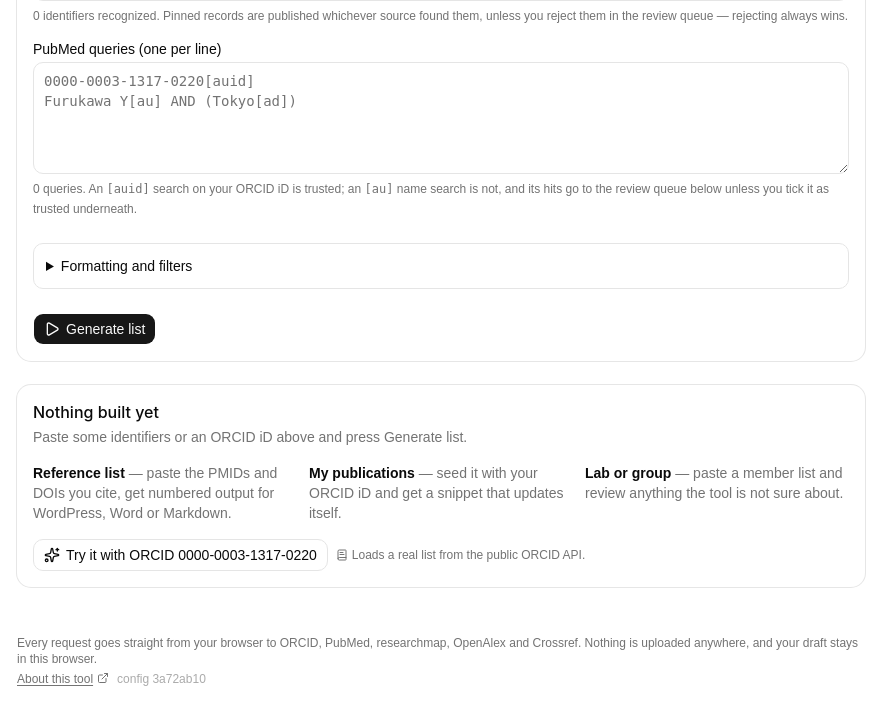
Test case: removing a publication from the built list › rebuilds, so the record leaves the list on the spot
(page scrolled)
Step 1. Click the button "Generate list" → (95, 329), box [33,313,156,345]
(page scrolled)
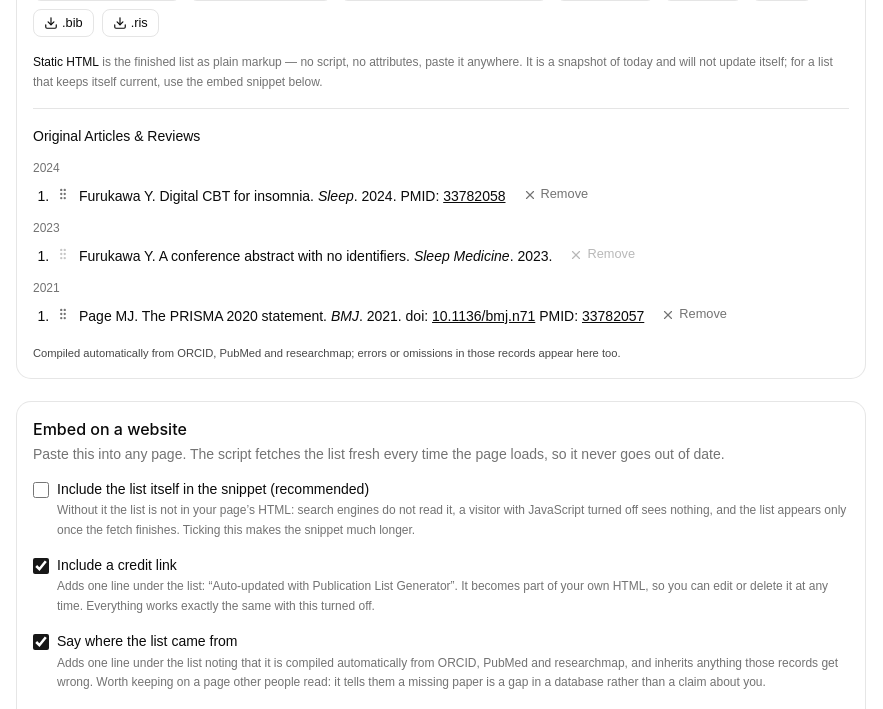
Expected: the element that starts with "Original Articles & Reviews" shows "The PRISMA 2020 statement", [79,308,331,324]
Step 2. Click the button "Remove" in the row of "Page MJ. The PRISMA 2020 statement." → (694, 315), box [650,301,738,329]
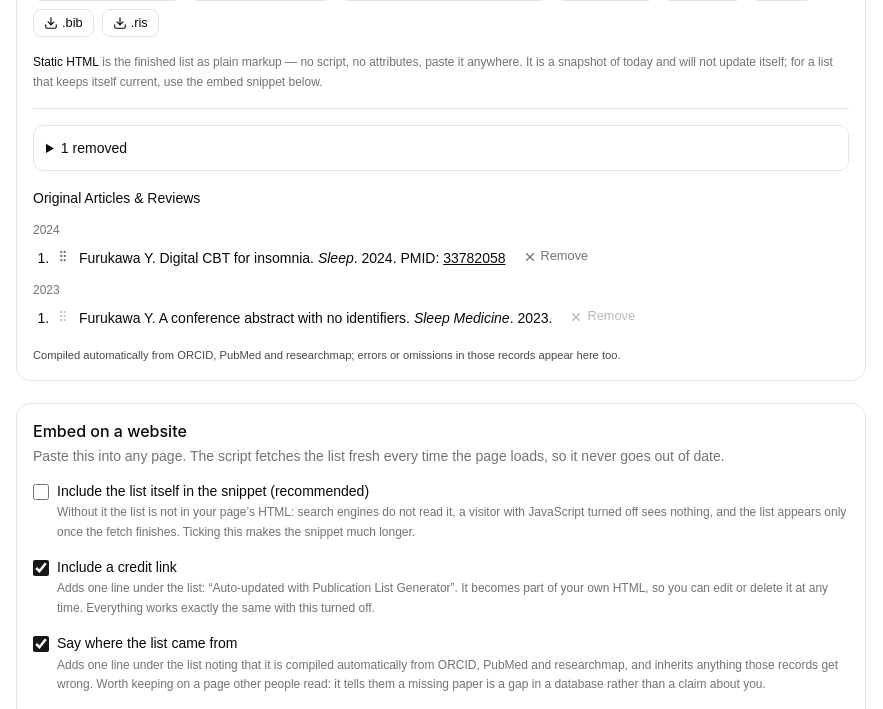
Expected: the element that starts with "Original Articles & Reviews" shows "Digital CBT for insomnia", [79,250,318,266]
Expected: the text "The PRISMA 2020 statement" is gone
